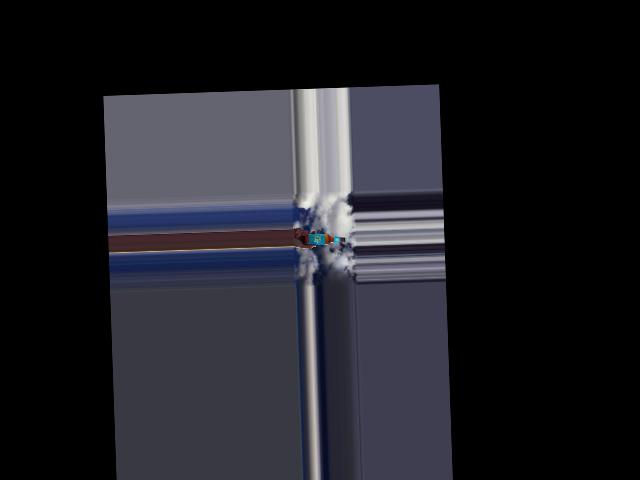beer: (303, 233, 345, 246)
